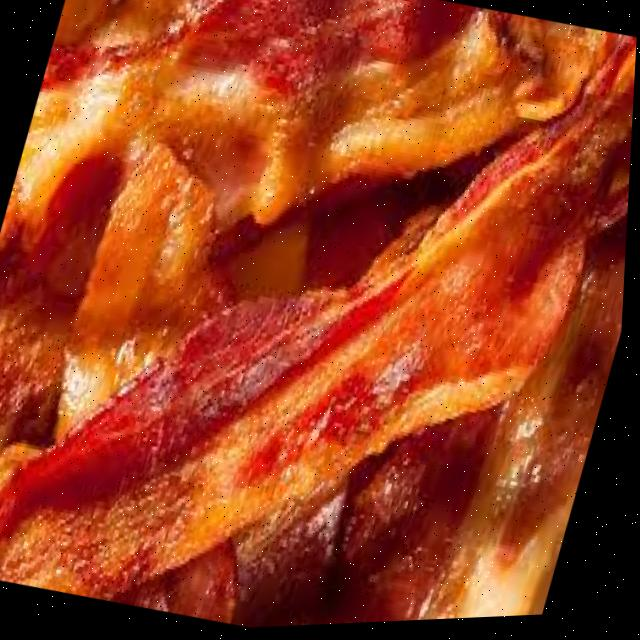Bacon: (0, 47, 637, 597), (138, 0, 609, 231), (424, 226, 630, 624), (64, 146, 232, 440), (0, 287, 70, 426)
